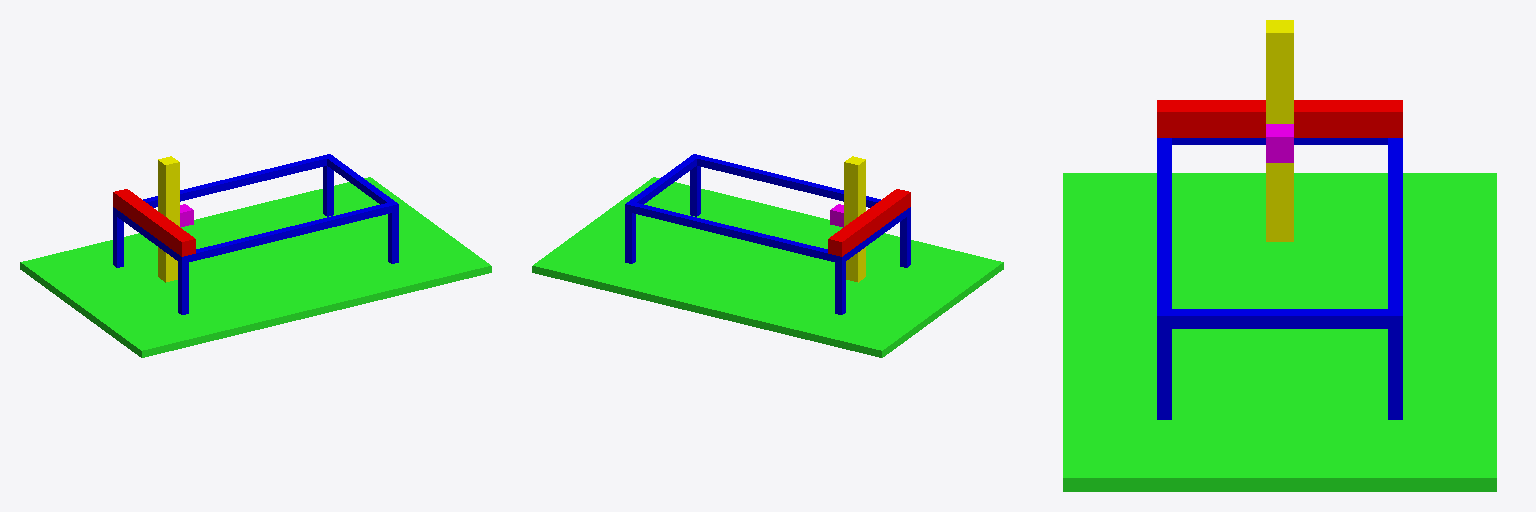
robot.urdf — gantry:
<robot name="gantry">

	<!-- first create a world link that doesnt contain anything-->
	<!-- it is good practice to do this-->
	<link name="world">
	</link>

	<!-- then make the first join attaching the world to the base link-->
	<!-- again, this is good practice to do-->
	<joint name="base_joint" type="fixed">
		<!-- the / at the end of the origin, parent, child etc closes the statement automatically-->
		<origin xyz="0 0 0.05" rpy="0 0 0"/>
		<parent link="world"/>
		<child link="base_link"/>
	</joint>
		
	<!-- now make the second link, the one that the joint above attaches to-->
	<!-- this is good practice, make the joint IN BETWEEN the two links that it joins together-->
	<!-- the first 'proper' link is the base (what the whole gantry will 'rest' on-->
	<link name="base_link">
		<!-- each link should have 3 attributes: visual, collision and inertial-->
		<visual>
			<!-- this is the origin FROM the joint origin (in this case raised by 0.05 because the box created is 0.1 height, so it will rest on the 'world floor'-->
			<origin xyz="0 0 -0.025" rpy="0 0 0"/>
			<geometry>
				<box size="2.5 1.5 0.05"/>
			</geometry>
			<material name="green">
				<color rgba="0.2 1 0.2 1"/>
			</material>
		</visual>
		
		<collision>
			<!-- in this case (and most cases) the collision should have the same origin and geometry as the visual-->
			<origin xyz="0 0 -0.025" rpy="0 0 0"/>
			<geometry>
				<box size="2.5 1.5 0.05"/>
			</geometry>
		</collision>
		
		<inertial>
			<!-- inertial is slightly different, should have an origin as with visual and collision, but also a mass and inertial properties-->
			<!-- the mass here is arbitrary, and the inertia technically is as well as it is a fixed joint-->
			<!-- the video that this is an example from did actually correctkly -->
			<origin xyz="0 0 -0.025" rpy="0 0 0"/>
			<mass value="12"/>
			<inertia ixx="2.26" ixy="0" ixz="0" iyy="6.26" iyz="0" izz="8.5"/>
		</inertial>
	</link>
	
	<!-- leg joints -->
	<joint name="leg1_joint" type="fixed">
		<!-- origin is FROM the old joint origin to the new joint origin -->
		<!-- in this case of course it is from the surface of the flat base plate -->
		<origin xyz="0.75 0.4 0.2" rpy="0 0 0"/>
		<parent link="base_link"/>
		<child link="leg1_link"/>
	</joint>
	<joint name="leg2_joint" type="fixed">
		<origin xyz="0.75 -0.4 0.2" rpy="0 0 0"/>
		<parent link="base_link"/>
		<child link="leg2_link"/>
	</joint>
	<joint name="leg3_joint" type="fixed">
		<origin xyz="-0.75 0.4 0.2" rpy="0 0 0"/>
		<parent link="base_link"/>
		<child link="leg3_link"/>
	</joint>
	<joint name="leg4_joint" type="fixed">
		<origin xyz="-0.75 -0.4 0.2" rpy="0 0 0"/>
		<parent link="base_link"/>
		<child link="leg4_link"/>
	</joint>
	
	<!-- upper frame joints -->
	<joint name="upperFrame1_joint" type="fixed">
		<!-- origin is FROM the old joint origin to the new joint origin -->
		<!-- in this case of course it is from the surface of the flat base plate -->
		<origin xyz="-0.75 0 0.375" rpy="0 0 0"/>
		<parent link="base_link"/>
		<child link="upperFrame1_link"/>
	</joint>
	<joint name="upperFrame2_joint" type="fixed">
		<!-- origin is FROM the old joint origin to the new joint origin -->
		<!-- in this case of course it is from the surface of the flat base plate -->
		<origin xyz="0.75 0 0.375" rpy="0 0 0"/>
		<parent link="base_link"/>
		<child link="upperFrame2_link"/>
	</joint>
	<joint name="upperFrame3_joint" type="fixed">
		<!-- origin is FROM the old joint origin to the new joint origin -->
		<!-- in this case of course it is from the surface of the flat base plate -->
		<origin xyz="0 0.4 0.375" rpy="0 0 0"/>
		<parent link="base_link"/>
		<child link="upperFrame3_link"/>
	</joint>
	<joint name="upperFrame4_joint" type="fixed">
		<!-- origin is FROM the old joint origin to the new joint origin -->
		<!-- in this case of course it is from the surface of the flat base plate -->
		<origin xyz="0 -0.4 0.375" rpy="0 0 0"/>
		<parent link="base_link"/>
		<child link="upperFrame4_link"/>
	</joint>
	
	<!-- leg links-->
	<link name="leg1_link">
		<visual>
			<origin xyz="0 0 0" rpy="0 0 0"/>
			<geometry>
				<box size="0.05 0.05 0.4"/>
			</geometry>
			<material name="blue">
				<color rgba="0 0 255 1"/>
			</material>
		</visual>

		<collision>
			<origin xyz="0 0 0" rpy="0 0 0"/>
			<geometry>
				<box size="0.05 0.05 0.4"/>
			</geometry>
		</collision>

		<inertial>
			<origin xyz="0 0 0" rpy="0 0 0"/>
			<mass value="2"/>
			<inertia ixx="2.26" ixy="0" ixz="0" iyy="6.26" iyz="0" izz="8.5"/>
		</inertial>
	</link>
	<link name="leg2_link">
		<visual>
			<origin xyz="0 0 0" rpy="0 0 0"/>
			<geometry>
				<box size="0.05 0.05 0.4"/>
			</geometry>
			<material name="blue">
			</material>
		</visual>

		<collision>
			<origin xyz="0 0 0" rpy="0 0 0"/>
			<geometry>
				<box size="0.05 0.05 0.4"/>
			</geometry>
		</collision>

		<inertial>
			<origin xyz="0 0 0" rpy="0 0 0"/>
			<mass value="2"/>
			<inertia ixx="2.26" ixy="0" ixz="0" iyy="6.26" iyz="0" izz="8.5"/>
		</inertial>
	</link>
	<link name="leg3_link">
		<visual>
			<origin xyz="0 0 0" rpy="0 0 0"/>
			<geometry>
				<box size="0.05 0.05 0.4"/>
			</geometry>
			<material name="blue">
			</material>
		</visual>

		<collision>
			<origin xyz="0 0 0" rpy="0 0 0"/>
			<geometry>
				<box size="0.05 0.05 0.4"/>
			</geometry>
		</collision>

		<inertial>
			<origin xyz="0 0 0" rpy="0 0 0"/>
			<mass value="2"/>
			<inertia ixx="2.26" ixy="0" ixz="0" iyy="6.26" iyz="0" izz="8.5"/>
		</inertial>
	</link>
	<link name="leg4_link">
		<visual>
			<origin xyz="0 0 0" rpy="0 0 0"/>
			<geometry>
				<box size="0.05 0.05 0.4"/>
			</geometry>
			<material name="blue">
			</material>
		</visual>

		<collision>
			<origin xyz="0 0 0" rpy="0 0 0"/>
			<geometry>
				<box size="0.05 0.05 0.4"/>
			</geometry>
		</collision>

		<inertial>
			<origin xyz="0 0 0" rpy="0 0 0"/>
			<mass value="2"/>
			<inertia ixx="2.26" ixy="0" ixz="0" iyy="6.26" iyz="0" izz="8.5"/>
		</inertial>
	</link>
	
	<!-- upper frame links -->
	<link name="upperFrame1_link">
		<visual>
			<origin xyz="0 0 0" rpy="0 0 0"/>
			<geometry>
				<box size="0.05 0.85 0.05"/>
			</geometry>
			<material name="blue">
			</material>
		</visual>

		<collision>
			<origin xyz="0 0 0" rpy="0 0 0"/>
			<geometry>
				<box size="0.05 0.85 0.05"/>
			</geometry>
		</collision>

		<inertial>
			<origin xyz="0 0 0" rpy="0 0 0"/>
			<mass value="2"/>
			<inertia ixx="2.26" ixy="0" ixz="0" iyy="6.26" iyz="0" izz="8.5"/>
		</inertial>
	</link>
	<link name="upperFrame2_link">
		<visual>
			<origin xyz="0 0 0" rpy="0 0 0"/>
			<geometry>
				<box size="0.05 0.85 0.05"/>
			</geometry>
			<material name="blue">
			</material>
		</visual>

		<collision>
			<origin xyz="0 0 0" rpy="0 0 0"/>
			<geometry>
				<box size="0.05 0.85 0.05"/>
			</geometry>
		</collision>

		<inertial>
			<origin xyz="0 0 0" rpy="0 0 0"/>
			<mass value="2"/>
			<inertia ixx="2.26" ixy="0" ixz="0" iyy="6.26" iyz="0" izz="8.5"/>
		</inertial>
	</link>
	<link name="upperFrame3_link">
		<visual>
			<origin xyz="0 0 0" rpy="0 0 0"/>
			<geometry>
				<box size="1.55 0.05 0.05"/>
			</geometry>
			<material name="blue">
			</material>
		</visual>

		<collision>
			<origin xyz="0 0 0" rpy="0 0 0"/>
			<geometry>
				<box size="1.55 0.05 0.05"/>
			</geometry>
		</collision>

		<inertial>
			<origin xyz="0 0 0" rpy="0 0 0"/>
			<mass value="2"/>
			<inertia ixx="2.26" ixy="0" ixz="0" iyy="6.26" iyz="0" izz="8.5"/>
		</inertial>
	</link>
	<link name="upperFrame4_link">
		<visual>
			<origin xyz="0 0 0" rpy="0 0 0"/>
			<geometry>
				<box size="1.55 0.05 0.05"/>
			</geometry>
			<material name="blue">
			</material>
		</visual>

		<collision>
			<origin xyz="0 0 0" rpy="0 0 0"/>
			<geometry>
				<box size="1.55 0.05 0.05"/>
			</geometry>
		</collision>

		<inertial>
			<origin xyz="0 0 0" rpy="0 0 0"/>
			<mass value="2"/>
			<inertia ixx="2.26" ixy="0" ixz="0" iyy="6.26" iyz="0" izz="8.5"/>
		</inertial>
	</link>

	<!-- y-axis joint (that slides along the x-direction) -->
	<joint name="yaxis_sliding_joint" type="prismatic">
		<!-- origin is FROM the old joint origin to the new joint origin -->
		<!-- in this case it is from the centroid of the first upper frame section -->
		<origin xyz="0.025 0 0.075" rpy="0 0 0"/>
		<parent link="upperFrame1_link"/>
		<child link="yaxis_link"/>
		<!-- we have to define the axis about which the joint slides -->
		<axis xyz="1 0 0"/>
		<limit lower="0" upper="1.2" velocity="100" effort="100"/>
	</joint>

	<!-- y-axis link  -->
	<link name="yaxis_link">
		<visual>
			<origin xyz="0 0 0" rpy="0 0 0"/>
			<geometry>
				<box size="0.1 0.85 0.1"/>
			</geometry>
			<material name="red">
				<color rgba="255 0 0 1"/>
			</material>
		</visual>

		<collision>
			<origin xyz="0 0 0" rpy="0 0 0"/>
			<geometry>
				<box size="0.1 0.85 0.1"/>
			</geometry>
		</collision>

		<inertial>
			<origin xyz="0 0 0" rpy="0 0 0"/>
			<mass value="2"/>
			<inertia ixx="2.26" ixy="0" ixz="0" iyy="6.26" iyz="0" izz="8.5"/>
		</inertial>
	</link>

	<!-- z-axis joint (that slides along the y-direction) -->>
	<joint name="zaxis_sliding_joint" type="prismatic">
		<!-- origin is FROM the old joint origin to the new joint origin -->
		<!-- in this case it is from the centroid of the first upper frame section -->
		<origin xyz="0.1 0 0" rpy="0 0 0"/>
		<parent link="yaxis_link"/>
		<child link="zaxis_link"/>
		<!-- we have to define the axis about which the joint slides -->
		<axis xyz="0 1 0"/>
		<limit lower="-0.3" upper="0.3" velocity="100" effort="100"/>
	</joint>

	<!-- z-axis link  -->
	<link name="zaxis_link">
		<visual>
			<origin xyz="0 0 0" rpy="0 0 0"/>
			<geometry>
				<box size="0.1 0.1 0.8"/>
			</geometry>
			<material name="orange">
				<color rgba="211 84 0 1"/>
			</material>
		</visual>

		<collision>
			<origin xyz="0 0 0" rpy="0 0 0"/>
			<geometry>
				<box size="0.1 0.1 0.8"/>
			</geometry>
		</collision>

		<inertial>
			<origin xyz="0 0 0" rpy="0 0 0"/>
			<mass value="2"/>
			<inertia ixx="2.26" ixy="0" ixz="0" iyy="6.26" iyz="0" izz="8.5"/>
		</inertial>
	</link>

	<!-- gimbal frame joint (that slides along the z-direction) -->>
	<joint name="gimbal_frame_sliding_joint" type="prismatic">
		<!-- origin is FROM the old joint origin to the new joint origin -->
		<!-- in this case it is from the centroid of the first upper frame section -->
		<origin xyz="0.1 0 0" rpy="0 0 0"/>
		<parent link="zaxis_link"/>
		<child link="gimbal_frame_link"/>
		<!-- we have to define the axis about which the joint slides -->
		<axis xyz="0 0 1"/>
		<limit lower="-0.35" upper="0.35" velocity="100" effort="100"/>
	</joint>

	<!-- gimbal frame link  -->
	<link name="gimbal_frame_link">
		<visual>
			<origin xyz="0 0 0" rpy="0 0 0"/>
			<geometry>
				<box size="0.1 0.1 0.1"/>
			</geometry>
			<material name="purple">
				<color rgba="211 0 81 1"/>
			</material>
		</visual>

		<collision>
			<origin xyz="0 0 0" rpy="0 0 0"/>
			<geometry>
				<box size="0.1 0.1 0.1"/>
			</geometry>
		</collision>

		<inertial>
			<origin xyz="0 0 0" rpy="0 0 0"/>
			<mass value="2"/>
			<inertia ixx="2.26" ixy="0" ixz="0" iyy="6.26" iyz="0" izz="8.5"/>
		</inertial>
	</link>
</robot>

--- Render facts (derived) ---
3 views of the same robot in one strip: view 1: azimuth 30°, elevation 25°; view 2: azimuth 150°, elevation 25°; view 3: azimuth 270°, elevation 25° (orthographic).
Robot: gantry — 13 links, 12 joints (3 prismatic, 9 fixed); root link world; default pose: every joint at zero.
Visible links, largest first — view 1: base_link, upperFrame4_link, yaxis_link, zaxis_link, upperFrame3_link, upperFrame2_link, leg4_link, leg2_link, leg3_link, leg1_link; view 2: base_link, upperFrame3_link, yaxis_link, zaxis_link, upperFrame4_link, upperFrame2_link, leg1_link, leg3_link, leg2_link, leg4_link; view 3: base_link, yaxis_link, zaxis_link, upperFrame2_link, upperFrame3_link, upperFrame4_link, leg1_link, leg2_link, upperFrame1_link, gimbal_frame_link.
Boxes of the visible links, bbox=[...] form: base_link: bbox=[20, 177, 491, 357]; upperFrame4_link: bbox=[180, 202, 397, 262]; yaxis_link: bbox=[113, 189, 195, 256]; zaxis_link: bbox=[158, 156, 179, 282]; upperFrame3_link: bbox=[143, 156, 331, 207]; upperFrame2_link: bbox=[323, 154, 396, 204]; leg4_link: bbox=[178, 254, 188, 314]; leg2_link: bbox=[388, 202, 398, 263]; leg3_link: bbox=[113, 207, 123, 267]; leg1_link: bbox=[323, 154, 333, 216]; base_link: bbox=[532, 177, 1003, 357]; upperFrame3_link: bbox=[625, 202, 844, 261]; yaxis_link: bbox=[828, 189, 910, 256]; zaxis_link: bbox=[844, 156, 865, 282]; upperFrame4_link: bbox=[692, 156, 880, 207]; upperFrame2_link: bbox=[626, 155, 698, 204]; leg1_link: bbox=[625, 202, 635, 263]; leg3_link: bbox=[835, 254, 845, 314]; leg2_link: bbox=[690, 154, 700, 216]; leg4_link: bbox=[900, 210, 910, 267]; base_link: bbox=[1063, 173, 1496, 491]; yaxis_link: bbox=[1157, 100, 1402, 137]; zaxis_link: bbox=[1266, 20, 1293, 241]; upperFrame2_link: bbox=[1159, 309, 1402, 328]; upperFrame3_link: bbox=[1388, 138, 1402, 328]; upperFrame4_link: bbox=[1157, 138, 1171, 325]; leg1_link: bbox=[1388, 309, 1402, 419]; leg2_link: bbox=[1157, 309, 1171, 419]; upperFrame1_link: bbox=[1172, 138, 1387, 144]; gimbal_frame_link: bbox=[1266, 124, 1293, 162].
Size in the robot's own frame: 2.5 by 1.5 by 0.9 metres.
Geometry: primitives only (box / cylinder / sphere), no mesh files.